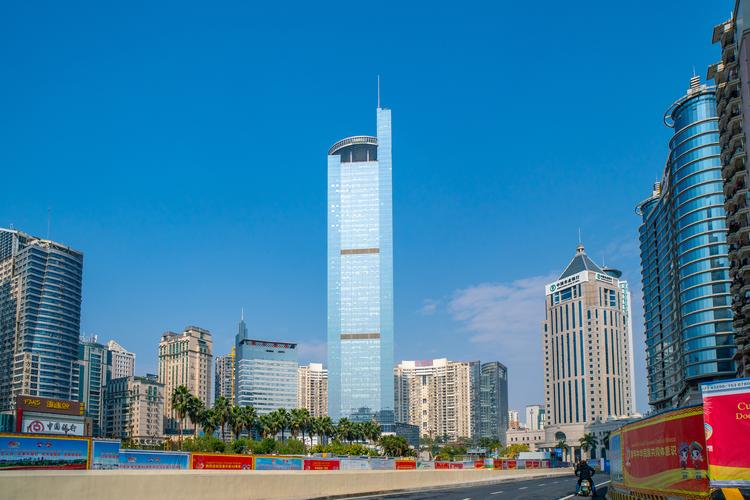buildings: (635, 38, 740, 426), (311, 78, 414, 437), (526, 237, 643, 449), (4, 224, 103, 457), (390, 349, 505, 463), (72, 335, 141, 454), (149, 321, 216, 436)
sky_cloud: (38, 61, 275, 198)
